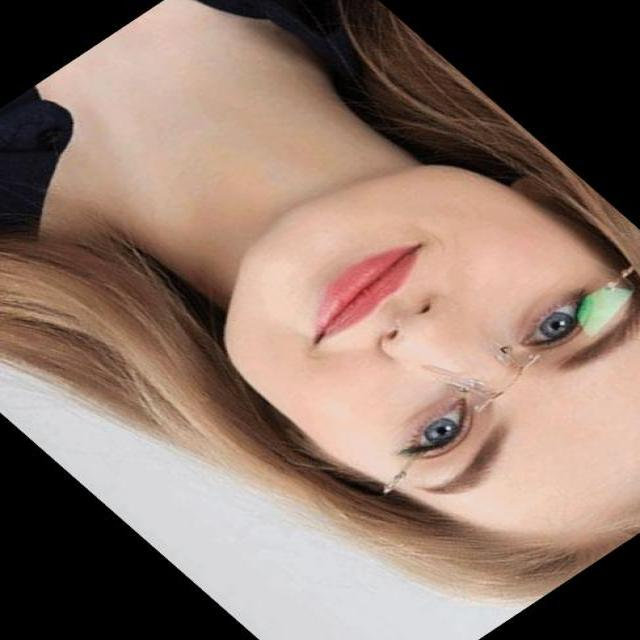glasses: (324, 246, 640, 496)
